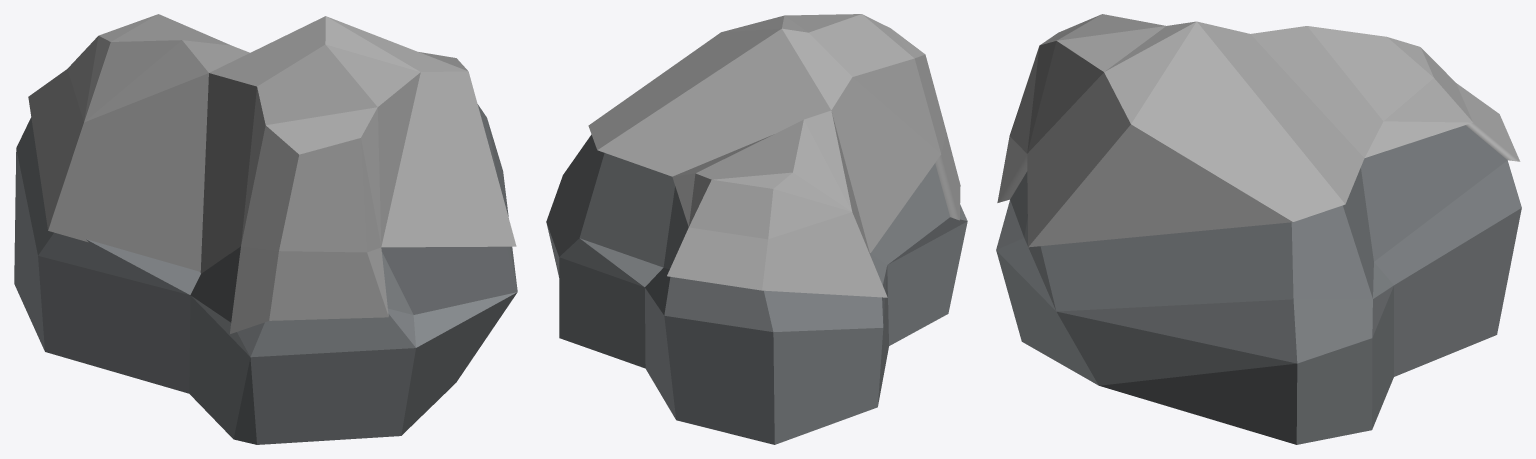
The model's file is Rock_Round_l_02.fbx.
The picture shows the model from 3 angles, left to right: view 1: azimuth 30°, elevation 25°; view 2: azimuth 150°, elevation 25°; view 3: azimuth 270°, elevation 25°; orthographic projection. The views are drawn at different scales.
Parts seen in each view (by area): view 1: Rock_Round_l_02; view 2: Rock_Round_l_02; view 3: Rock_Round_l_02.
Part boxes in pixels (x1,y1,x2,y2): Rock_Round_l_02: (14, 14, 517, 444); Rock_Round_l_02: (546, 14, 967, 444); Rock_Round_l_02: (996, 14, 1521, 444).
Size of the model in its own units: 214 by 164 by 238.
